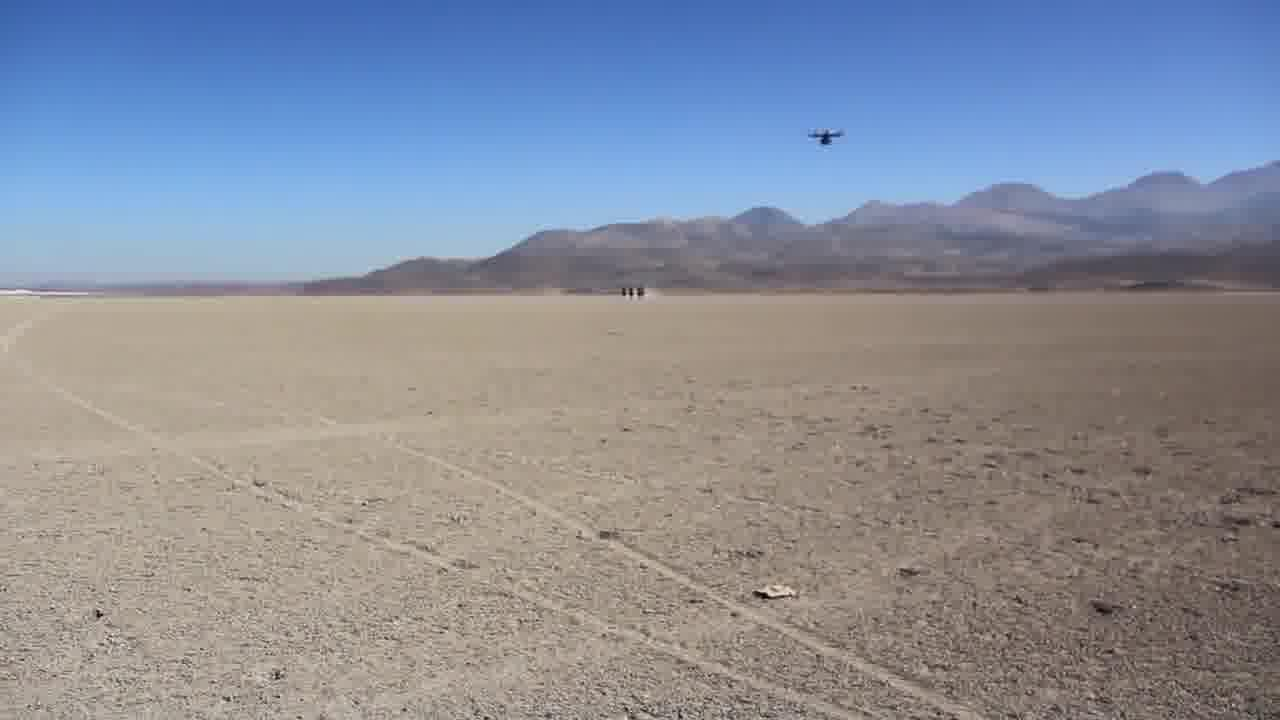drone: (808, 121, 844, 149)
